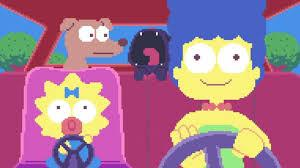Maggie: (27, 73, 119, 167)
Marge: (158, 0, 280, 168)
